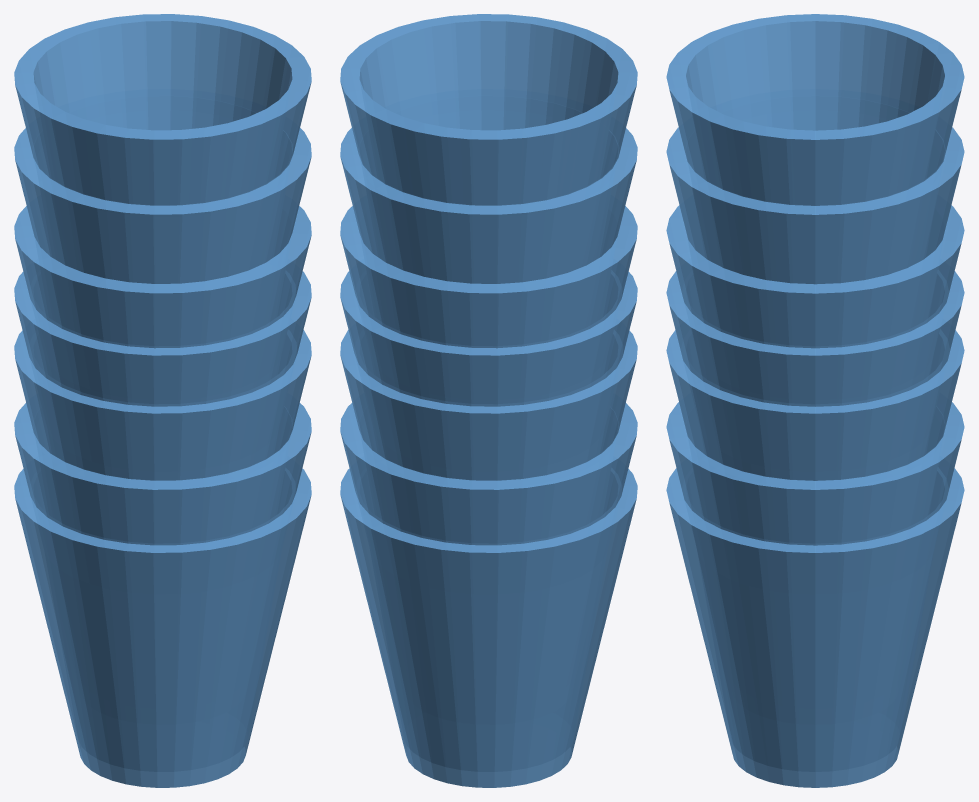
Rendered from variosvasos.glb.
The picture shows the model from 3 angles, left to right: view 1: azimuth 30°, elevation 25°; view 2: azimuth 150°, elevation 25°; view 3: azimuth 270°, elevation 25°; orthographic projection.
Parts seen in each view (by area): view 1: Cilindro, Cilindro.006, Cilindro.005, Cilindro.002, Cilindro.001, Cilindro.004, Cilindro.003; view 2: Cilindro, Cilindro.006, Cilindro.005, Cilindro.002, Cilindro.001, Cilindro.004, Cilindro.003; view 3: Cilindro, Cilindro.006, Cilindro.005, Cilindro.002, Cilindro.001, Cilindro.004, Cilindro.003.
Boxes of the visible parts, bbox=[...] form: Cilindro: bbox=[14, 468, 311, 787]; Cilindro.006: bbox=[14, 14, 311, 205]; Cilindro.005: bbox=[14, 128, 311, 283]; Cilindro.002: bbox=[14, 330, 311, 480]; Cilindro.001: bbox=[14, 403, 311, 545]; Cilindro.004: bbox=[14, 206, 311, 348]; Cilindro.003: bbox=[14, 271, 311, 406]; Cilindro: bbox=[340, 468, 637, 787]; Cilindro.006: bbox=[340, 14, 637, 205]; Cilindro.005: bbox=[340, 128, 637, 283]; Cilindro.002: bbox=[340, 330, 637, 480]; Cilindro.001: bbox=[340, 403, 637, 545]; Cilindro.004: bbox=[340, 206, 637, 348]; Cilindro.003: bbox=[340, 271, 637, 406]; Cilindro: bbox=[666, 468, 964, 787]; Cilindro.006: bbox=[666, 14, 964, 205]; Cilindro.005: bbox=[666, 127, 964, 284]; Cilindro.002: bbox=[666, 330, 964, 480]; Cilindro.001: bbox=[666, 402, 964, 545]; Cilindro.004: bbox=[666, 205, 964, 348]; Cilindro.003: bbox=[666, 271, 964, 406].
Bounding box in the file's own units: 3.59 × 8.99 × 3.59.
